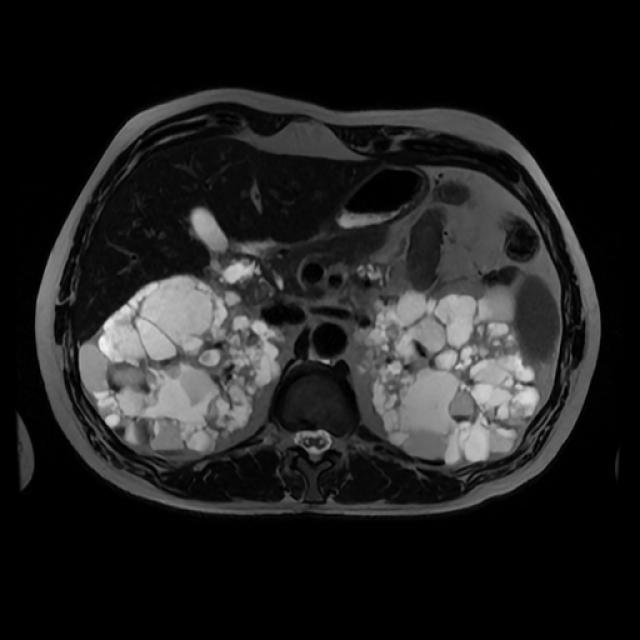sag: (78, 274, 286, 458)
sol: (352, 285, 540, 466)
